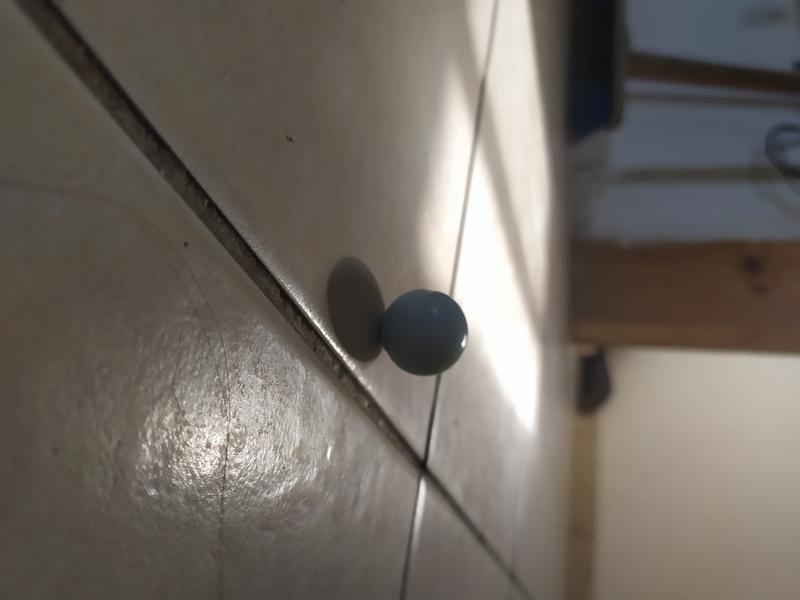Warning: (374, 284, 473, 380)
